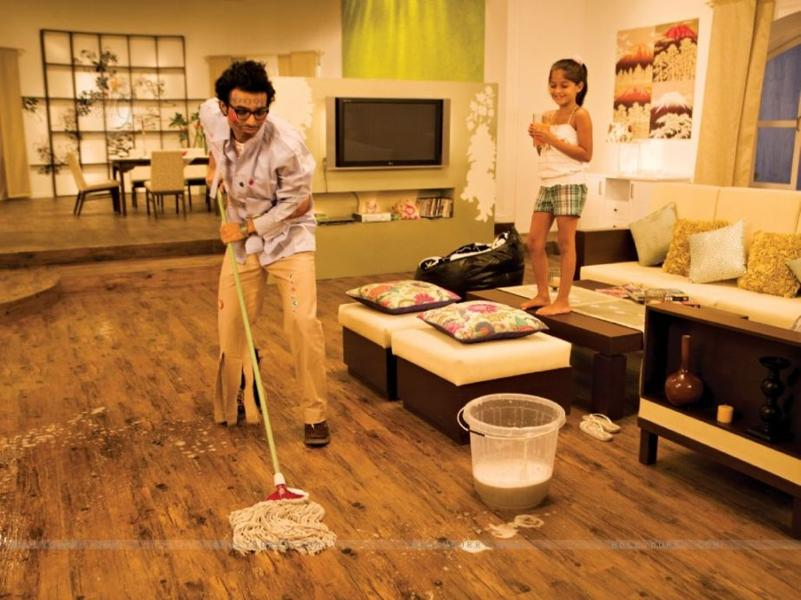person: (199, 61, 332, 449)
